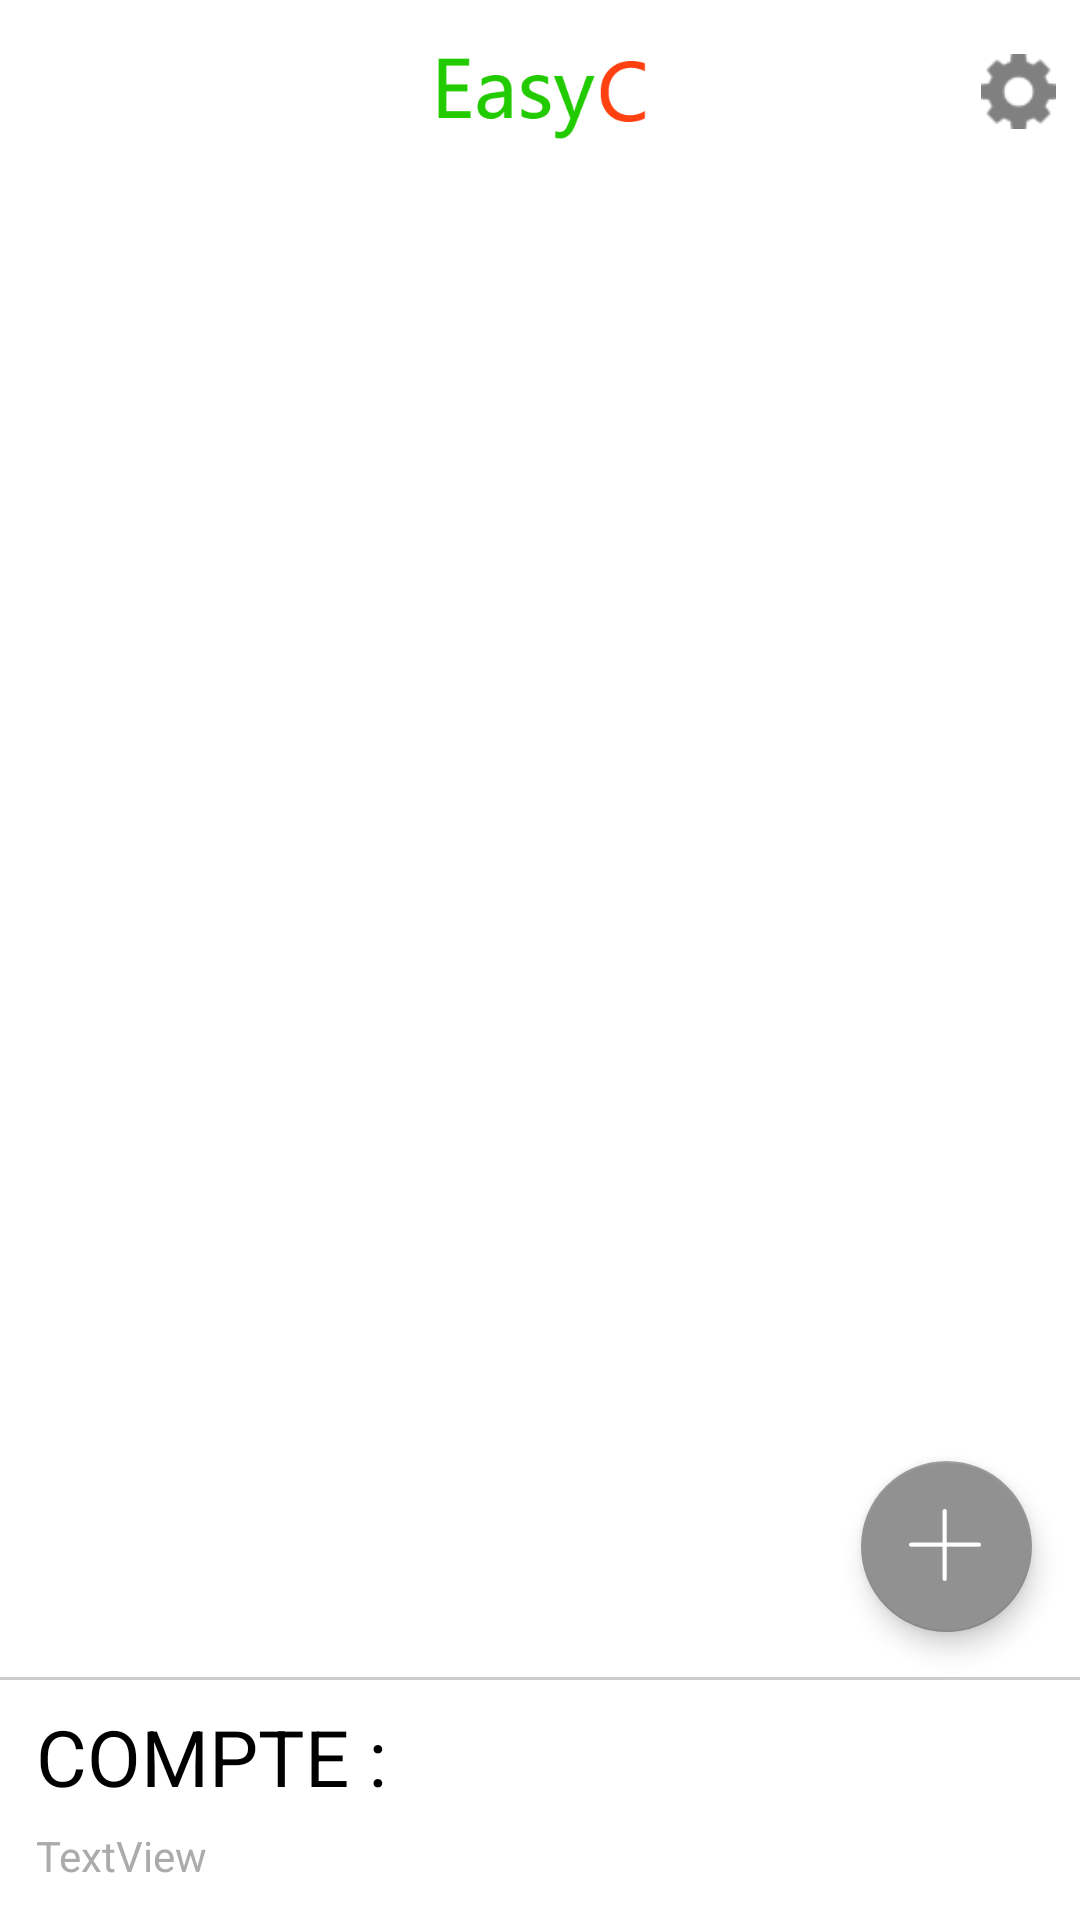

Where icons sit on this 1080px×1920px app screen, as (x1, y1, x2, y2):
plus: (861, 1461, 1032, 1632)
